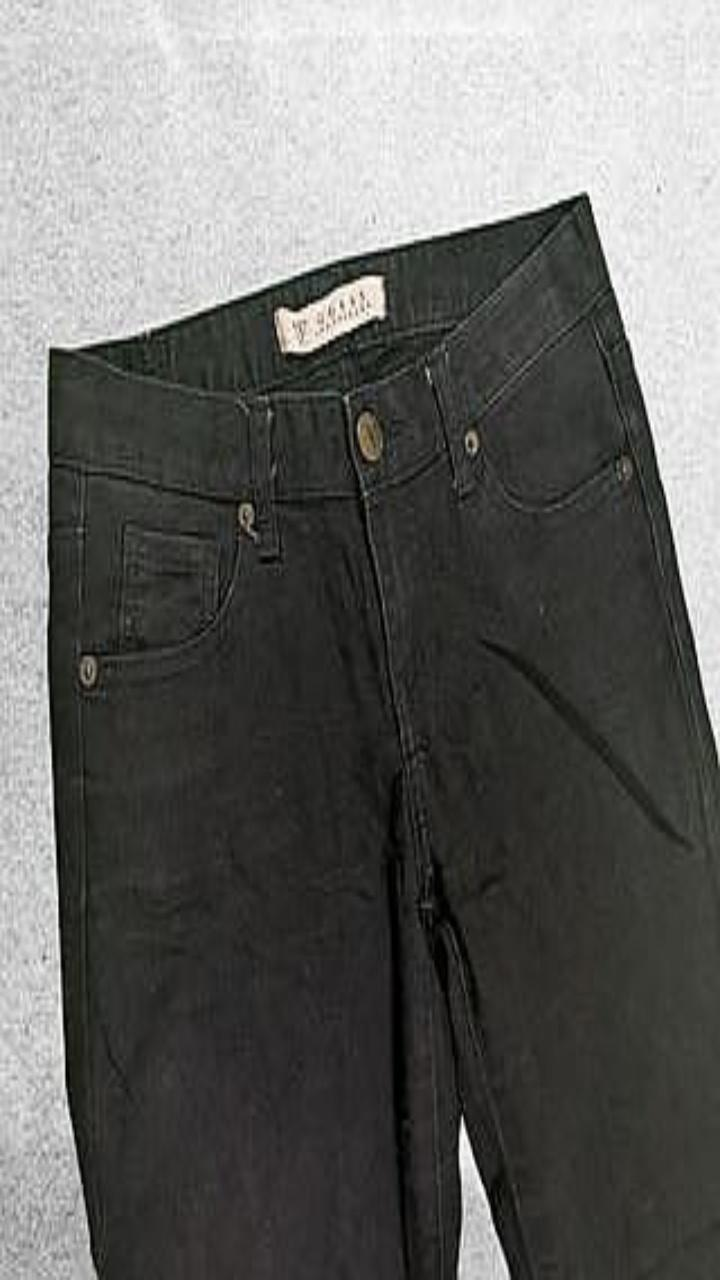Shorts: (48, 191, 719, 1279)
